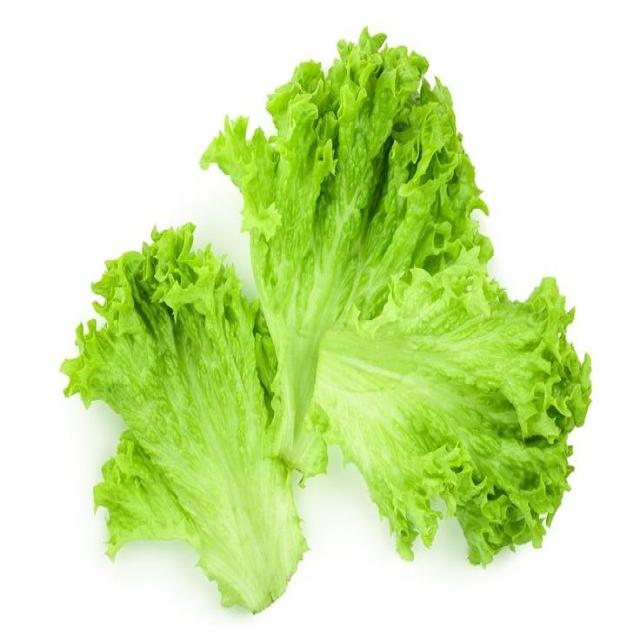lettuce: (202, 31, 590, 562), (201, 31, 491, 475), (62, 225, 306, 611), (314, 250, 590, 564)
